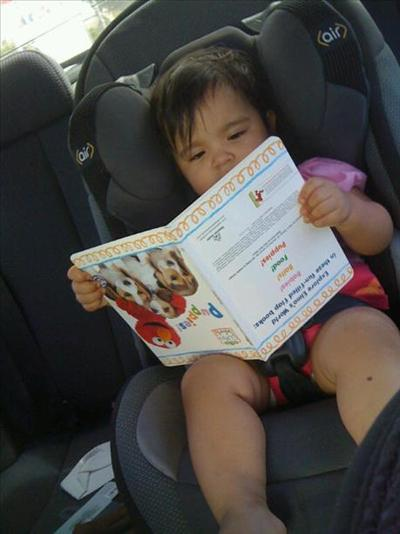person: (69, 59, 400, 533)
